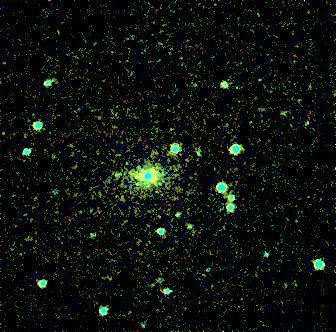star: (134, 271, 164, 301)
